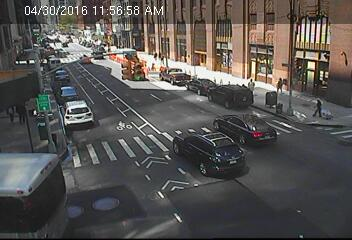neg: (96, 76, 118, 105), (129, 51, 147, 74), (91, 23, 107, 44), (335, 46, 351, 67), (251, 124, 266, 144), (217, 20, 230, 38), (274, 100, 287, 118), (197, 51, 209, 67), (58, 82, 69, 98), (47, 34, 58, 49), (24, 56, 35, 71), (140, 98, 151, 112), (165, 59, 176, 73), (143, 21, 154, 34), (313, 27, 323, 41), (115, 116, 125, 130)
pos: (309, 93, 328, 119), (10, 101, 29, 127), (271, 70, 289, 95), (243, 76, 261, 101), (4, 104, 18, 122), (152, 47, 162, 61)
